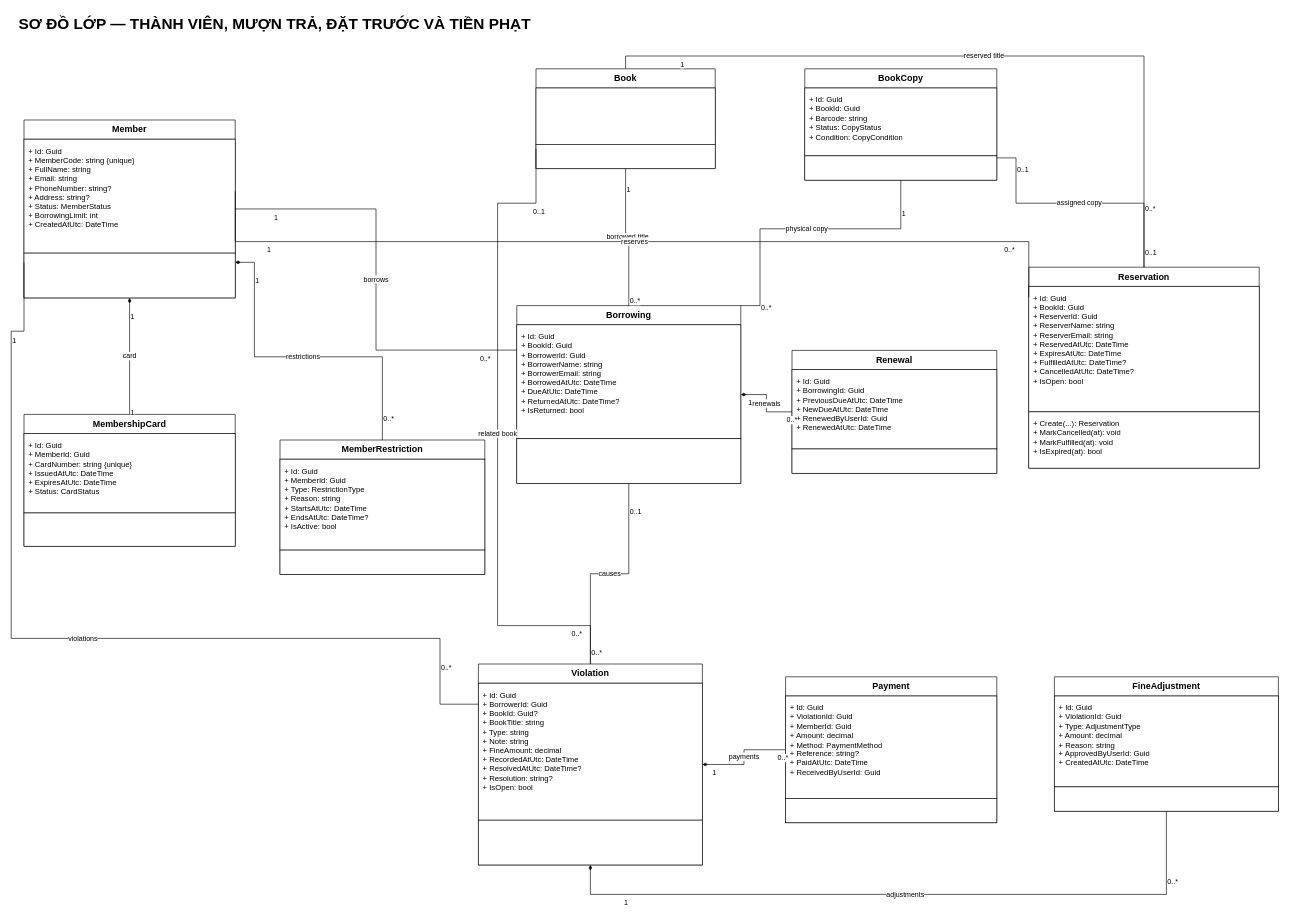
Image size: 1290x918. Some labels were removed from this diagram. Each missing label, with the centre of its shape:
+ Create(...): Borrowing + MarkReturned(at): void + IsOverdue(at): bool: (628,461)
+ Create(...): Violation + MarkPaid(at): void + MarkWaived(at): void: (590,842)
+ Id: Guid + Title: string + Isbn: string + Quantity: int: (625,115)
+ IsEligible(): bool + Restrict(reason): void + Reinstate(): void: (129,275)
+ Lift(at): void: (382,561)
+ Renew(expiresAt): void + Block(): void: (129,529)
